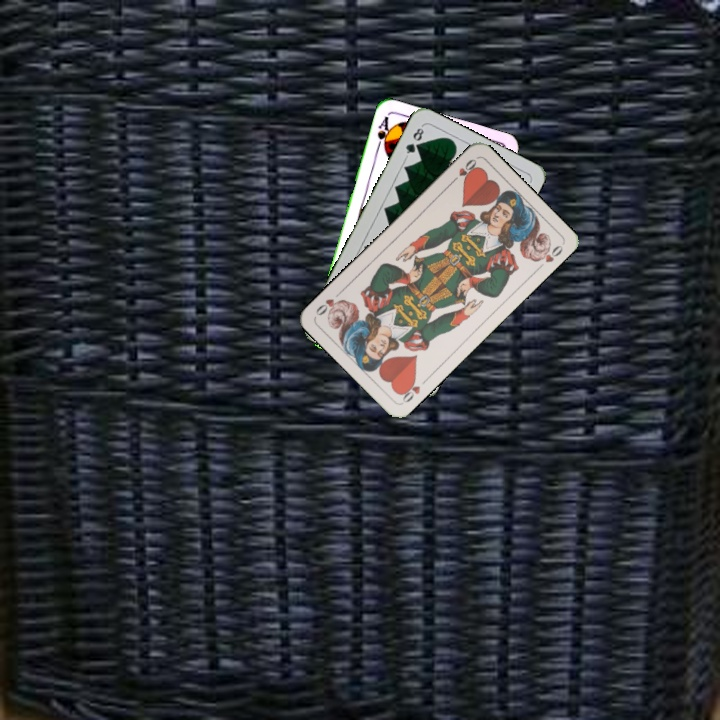G8: (402, 122, 426, 160)
HO: (395, 374, 431, 406), (447, 155, 480, 186)
SA: (373, 112, 394, 154)
